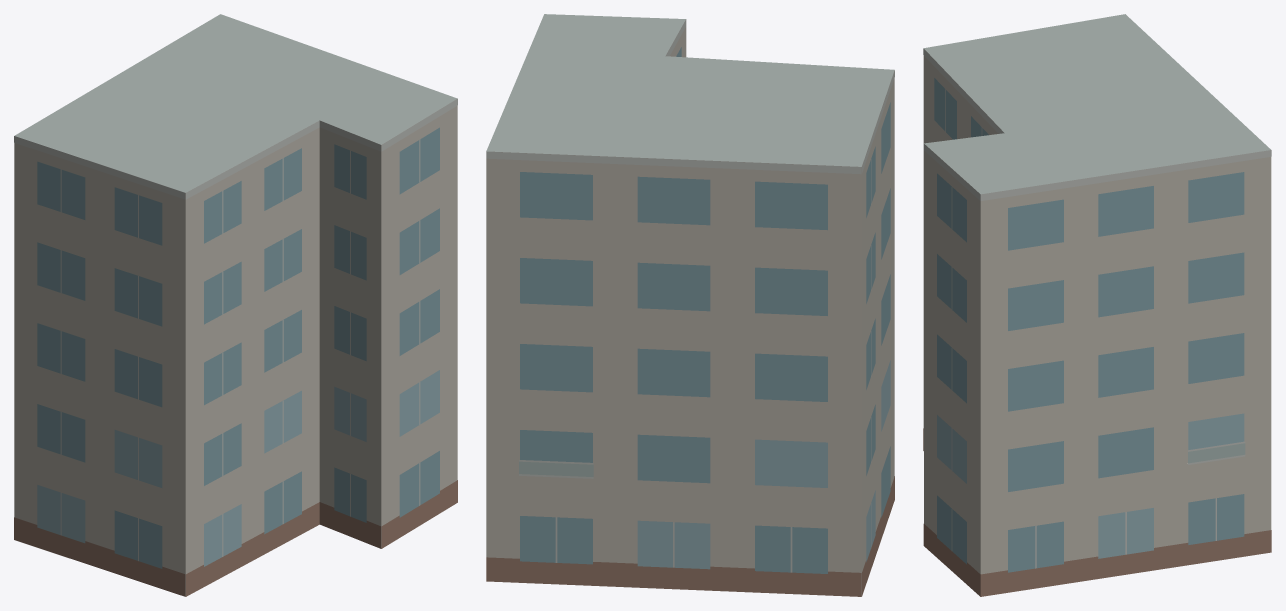
File: survey-upis-32976473.glb
The picture shows the model from 3 angles, left to right: view 1: azimuth 30°, elevation 25°; view 2: azimuth 150°, elevation 25°; view 3: azimuth 270°, elevation 25°; orthographic projection. The views are drawn at different scales.
Parts seen in each view (by area): view 1: survey-upis-32976473.tmp; view 2: survey-upis-32976473.tmp; view 3: survey-upis-32976473.tmp.
Boxes of the visible parts, x1,y1,x2,y2 form: survey-upis-32976473.tmp: [14, 14, 457, 596]; survey-upis-32976473.tmp: [486, 14, 894, 596]; survey-upis-32976473.tmp: [923, 14, 1271, 596].
Size of the model in its own units: 13.85 by 14.4 by 11.29.
